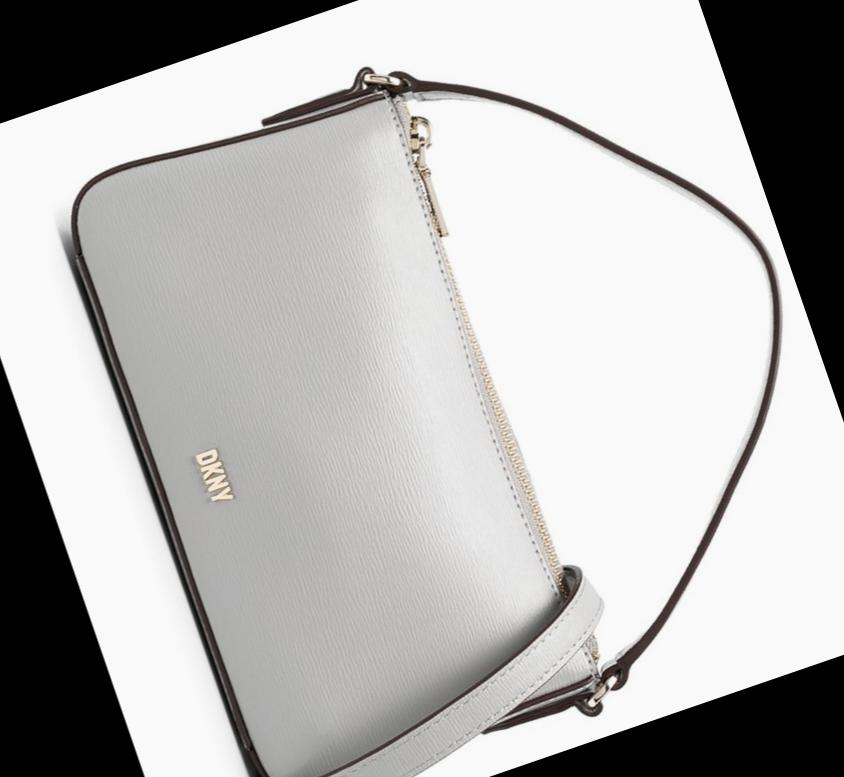DKNY: (195, 446, 235, 505)
